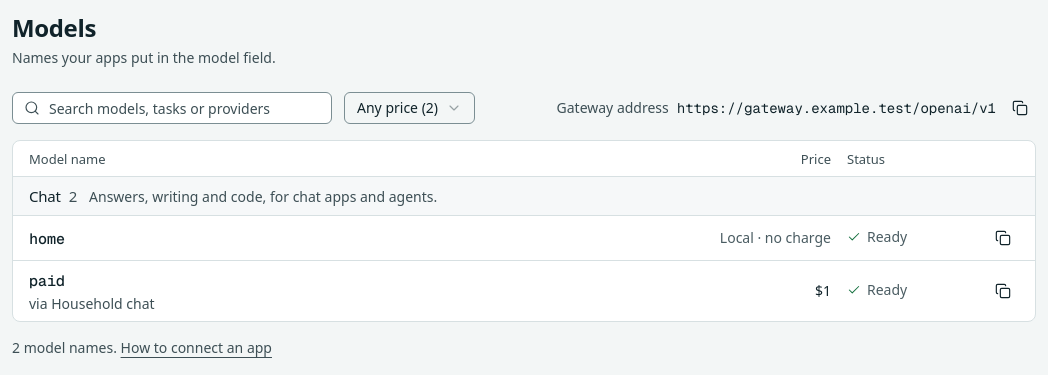
search › explains an empty result and clears the search and the price
Check: the button "home" is shown, box 29,228 -> 65,250
Click the dropdown labelled "price" at (410, 108), box 344,92 -> 475,124
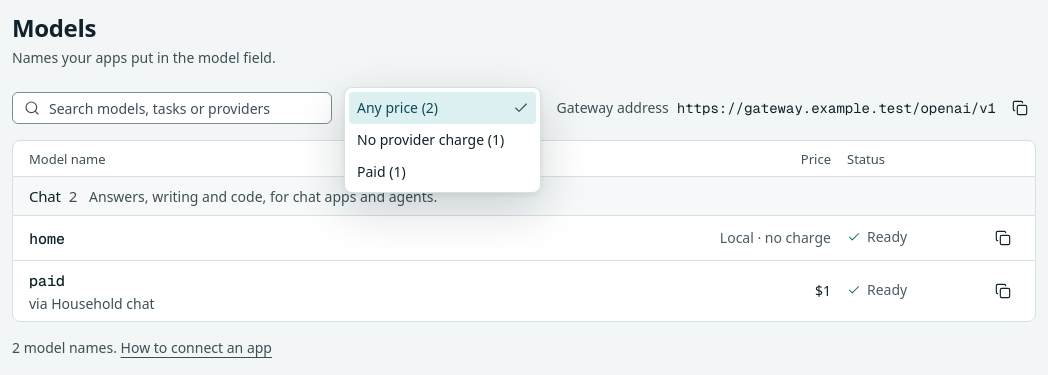
Click the option "Paid (1)" at (381, 172), box 357,162 -> 406,181
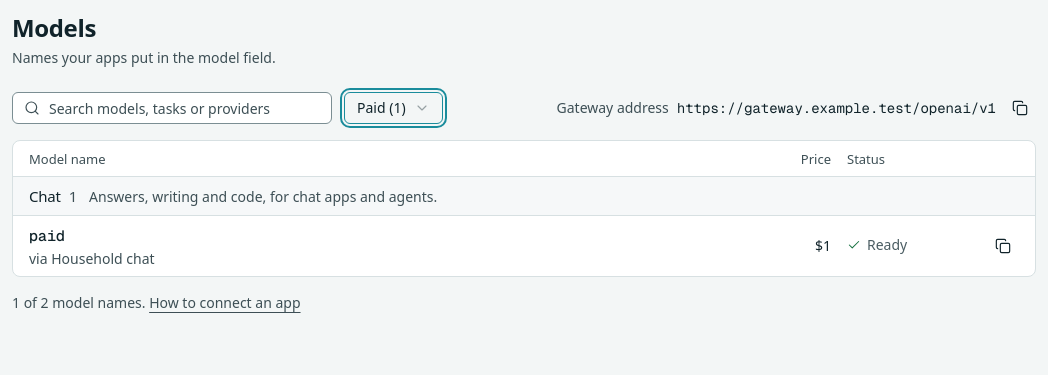
Type "unmatched" into the search field at (172, 108), box 12,92 -> 332,124
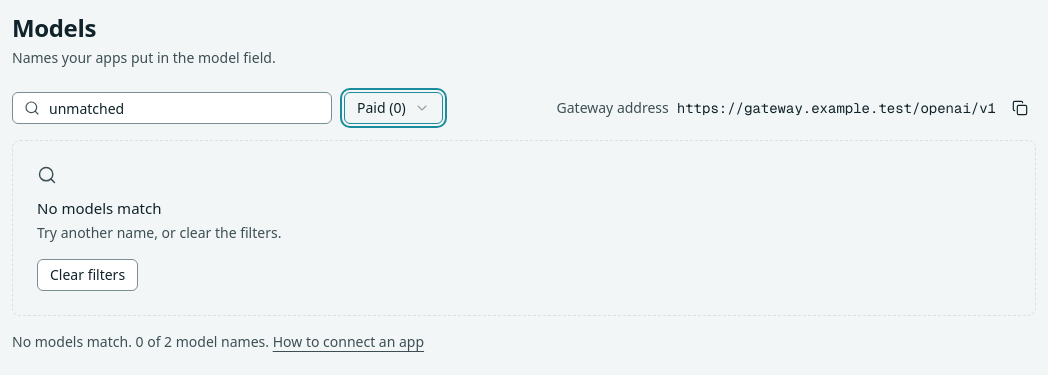
Check: the text "No models match" is shown, box 37,198 -> 162,218
Click the button "Clear filters" at (88, 275), box 37,259 -> 138,291
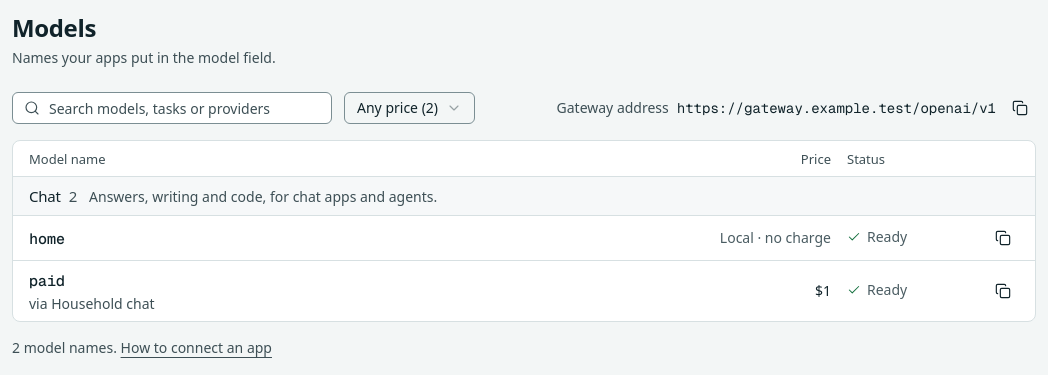
Check: the search field is empty, box 12,92 -> 332,124
Check: the dropdown labelled "price" shows "Any price", box 344,92 -> 475,124
Check: the button "home" is shown, box 29,228 -> 65,250
